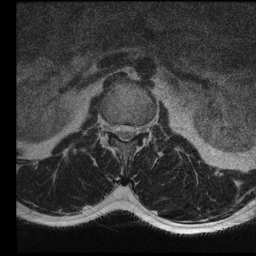CCS_normal: (122, 114, 129, 148)
LFS_normal: (137, 117, 145, 139)
LLS_normal: (129, 117, 137, 143)
RFS_normal: (105, 115, 114, 139)
RLS_normal: (114, 116, 121, 143)
